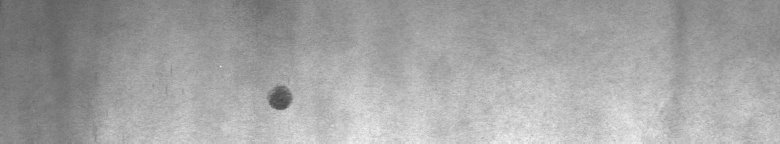fi: (261, 80, 300, 120)
